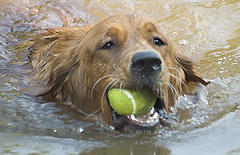tennis ball: (105, 84, 158, 113)
